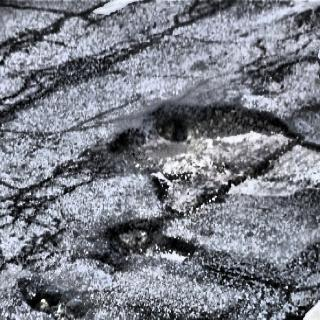alligator-crack: (0, 141, 106, 232), (170, 0, 237, 29)
pothole: (109, 91, 320, 219), (107, 219, 197, 264), (21, 273, 90, 320)
